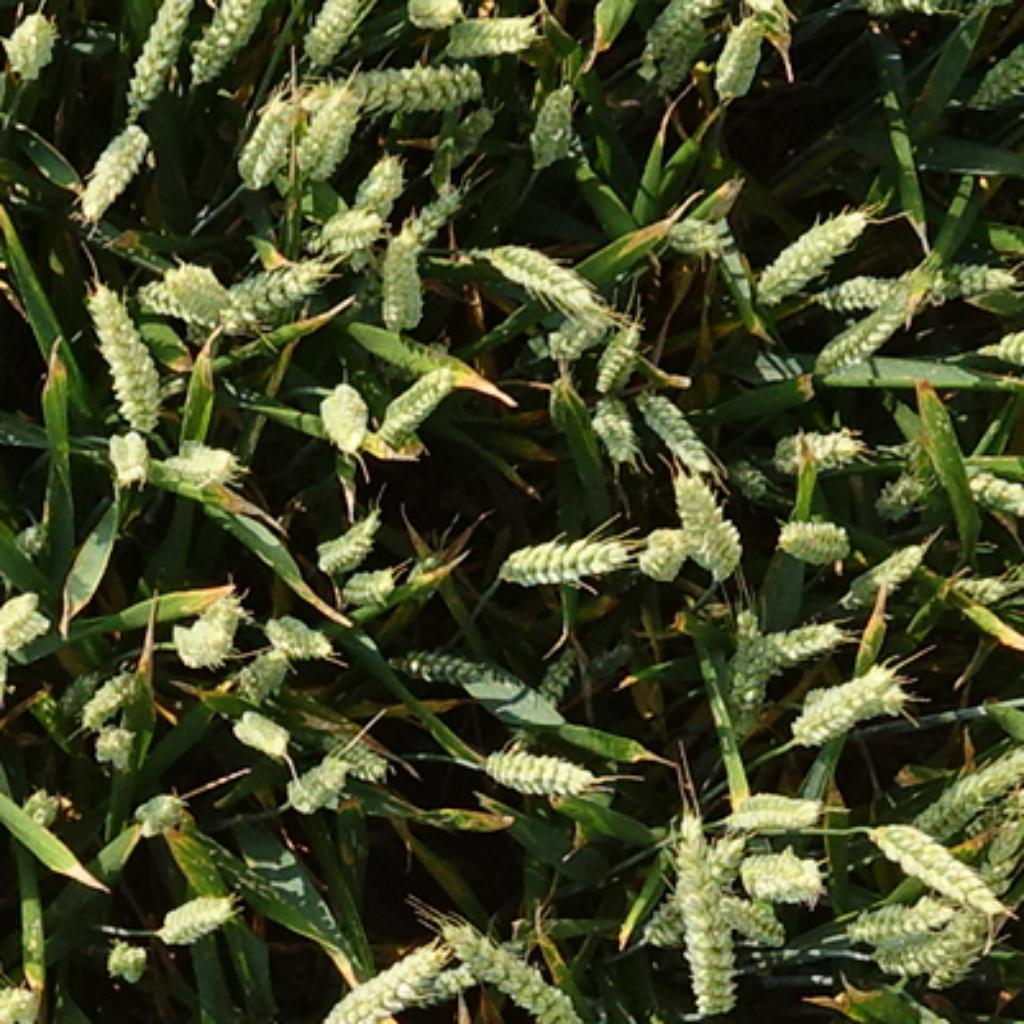0-0: (440, 903, 586, 1024), (668, 814, 750, 1024), (640, 824, 755, 957), (309, 926, 458, 1024), (842, 885, 1000, 975), (81, 279, 163, 430), (302, 56, 486, 115), (752, 192, 867, 286), (785, 652, 911, 737), (870, 816, 998, 898), (204, 245, 330, 327), (414, 934, 540, 1013), (473, 230, 601, 307), (913, 737, 1018, 829), (811, 284, 924, 368), (384, 632, 537, 693), (491, 522, 632, 586), (668, 465, 744, 581), (721, 616, 842, 686), (69, 120, 153, 217), (483, 742, 614, 804), (719, 601, 773, 747), (376, 348, 460, 440), (122, 2, 197, 104), (294, 84, 368, 186), (230, 89, 304, 189), (186, 2, 276, 84), (632, 376, 714, 463), (714, 7, 783, 107), (140, 250, 238, 320), (637, 2, 721, 81), (371, 215, 430, 325), (537, 304, 632, 371), (166, 581, 243, 663), (972, 780, 1024, 899), (765, 412, 865, 471), (903, 248, 1016, 299), (524, 71, 586, 163), (916, 565, 1021, 619), (734, 837, 826, 898), (396, 176, 465, 256), (424, 104, 499, 176), (386, 542, 455, 619), (151, 427, 238, 488), (317, 724, 396, 791), (276, 752, 360, 814), (153, 890, 240, 949), (0, 504, 61, 586), (312, 501, 384, 570), (819, 263, 919, 312), (440, 5, 542, 53), (133, 273, 212, 332), (960, 43, 1024, 115), (709, 883, 783, 944), (735, 784, 832, 830), (783, 517, 862, 573), (81, 660, 145, 729), (315, 383, 374, 457), (588, 312, 645, 386), (0, 5, 61, 74), (302, 2, 376, 58), (312, 199, 384, 253), (954, 460, 1024, 514), (256, 604, 330, 655), (655, 202, 729, 253), (583, 386, 637, 455), (870, 458, 936, 514), (860, 532, 926, 588), (58, 663, 107, 737), (0, 583, 51, 652), (348, 148, 407, 207), (634, 514, 693, 573), (12, 780, 71, 837), (532, 647, 581, 714), (238, 637, 296, 693), (99, 419, 151, 478), (227, 701, 289, 750), (130, 785, 186, 839), (335, 558, 399, 601), (92, 721, 145, 770), (102, 936, 153, 985), (0, 970, 46, 1024), (391, 2, 471, 33), (719, 448, 768, 496), (975, 325, 1024, 373), (586, 640, 637, 686), (0, 15, 7, 102)
